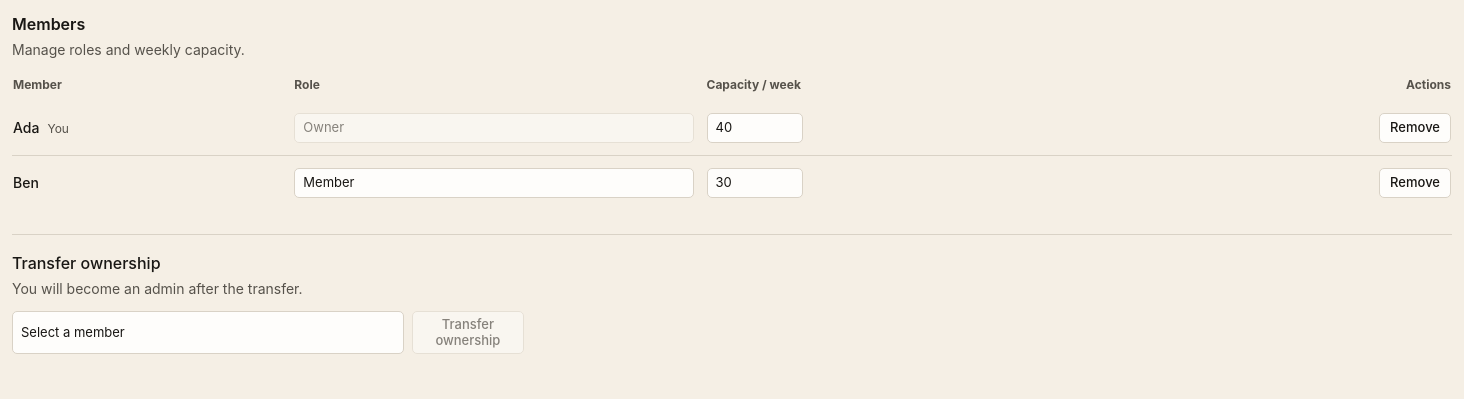
Test: MemberSettings › rejects invalid capacity before mutation
Replace the text in the number field named "Weekly capacity for Ben" in the row of "Ben" with "169" at (754,183), box [706,168,802,198]
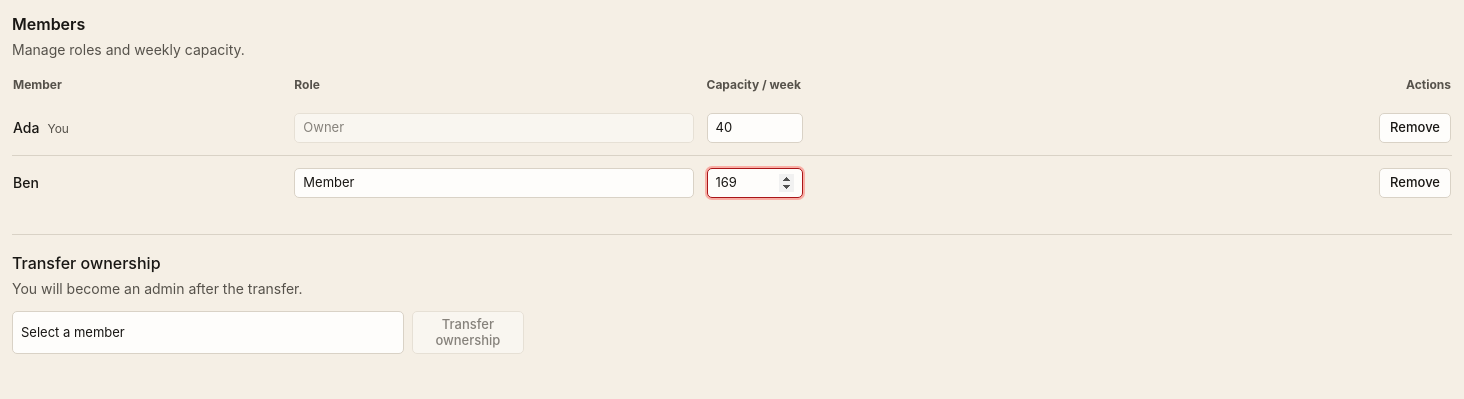
Press Tab
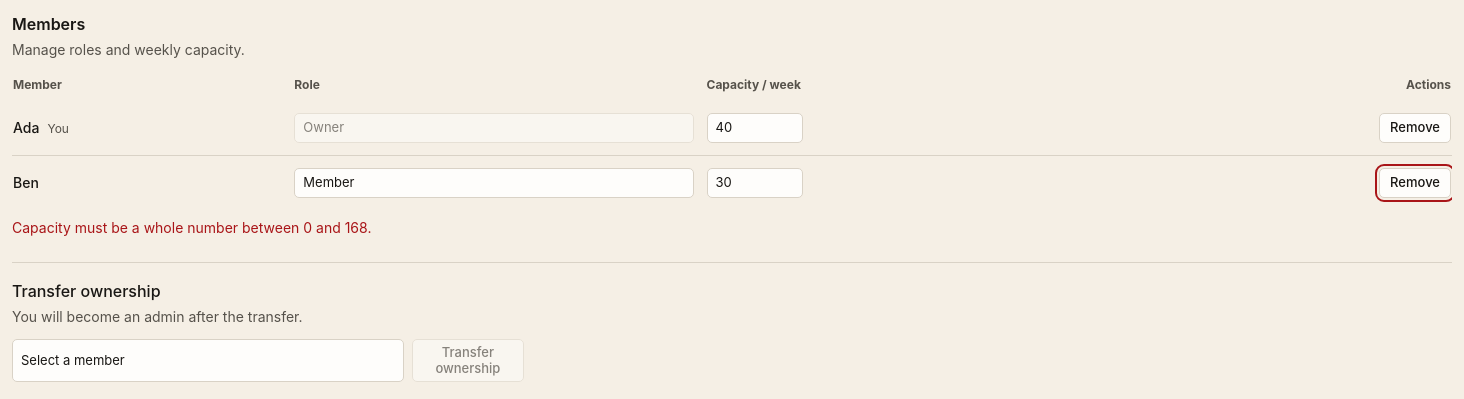
Result: the message shows "between 0 and 168" at [12,219,371,236]
Result: the number field named "Weekly capacity for Ben" in the row of "Ben" holds "30" at [706,168,802,198]
